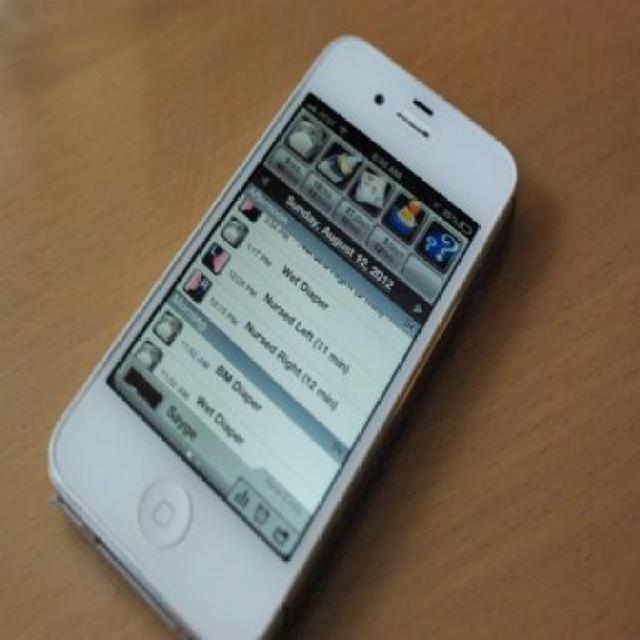phone: (37, 38, 526, 635)
